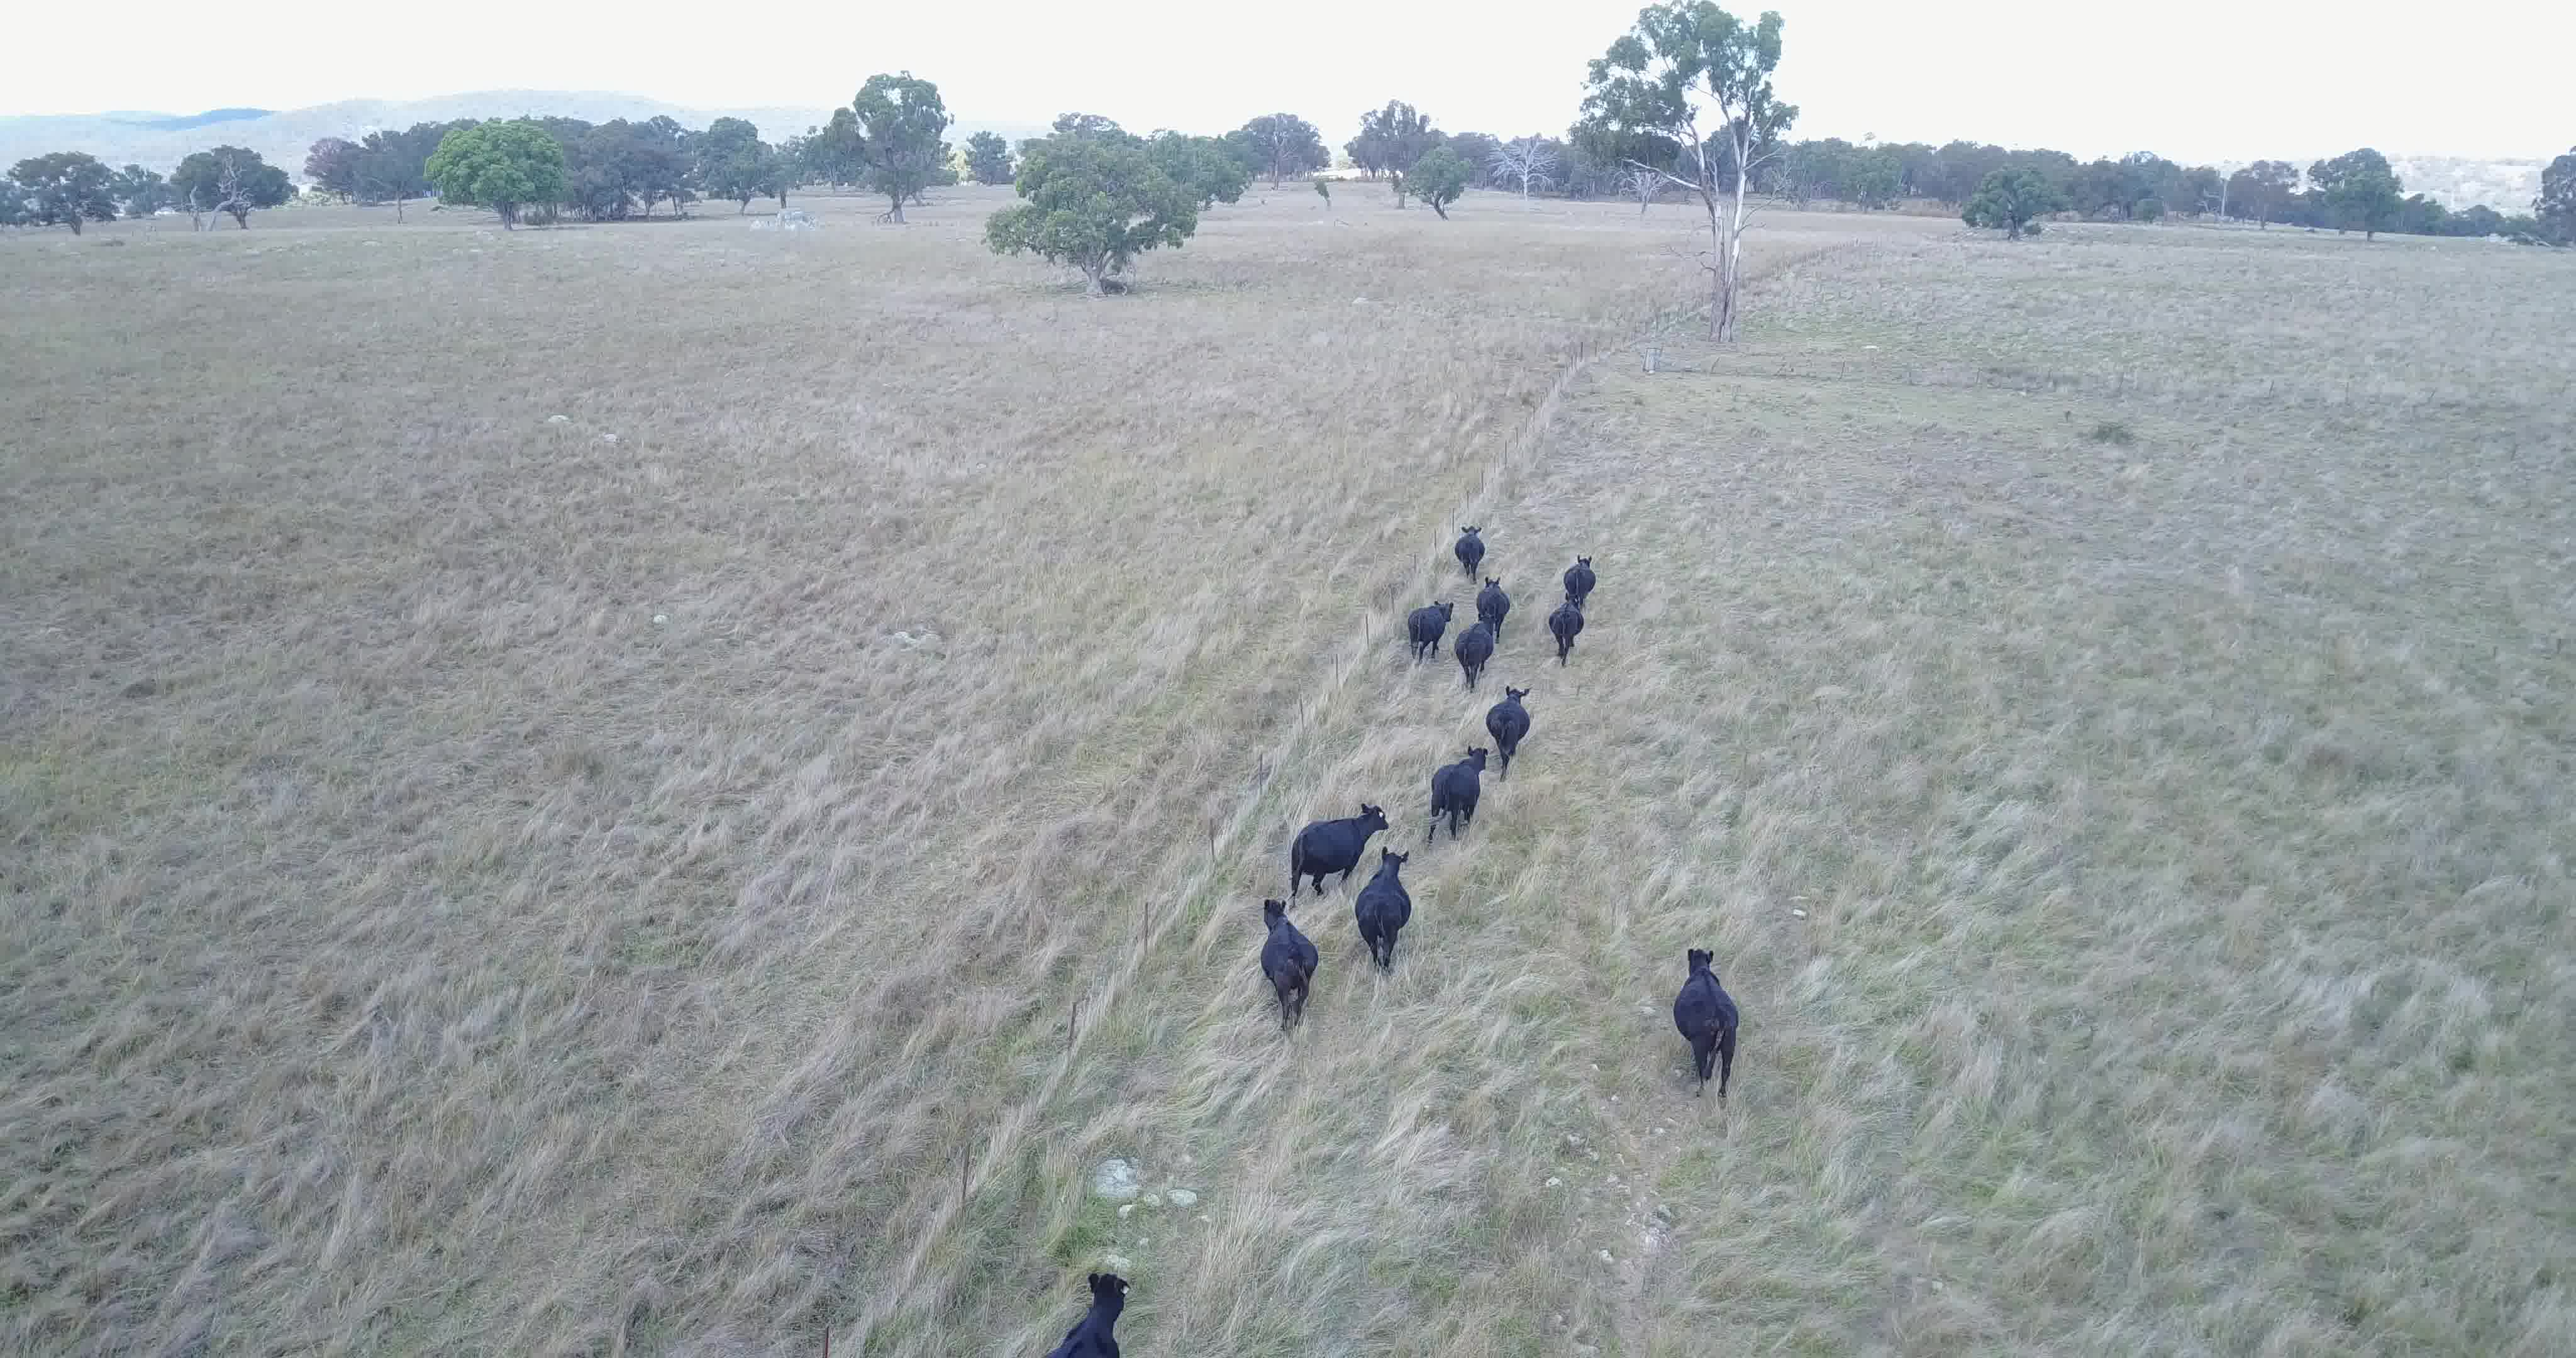cattle: (1668, 941, 1750, 1104), (1288, 799, 1392, 893), (1036, 1269, 1145, 1358), (1254, 898, 1320, 1029), (1353, 843, 1416, 973), (1424, 746, 1487, 845), (1482, 682, 1537, 782), (1402, 595, 1453, 671), (1453, 610, 1498, 693), (1545, 593, 1588, 671), (1555, 552, 1600, 607), (1450, 525, 1487, 583), (1475, 578, 1511, 636)
